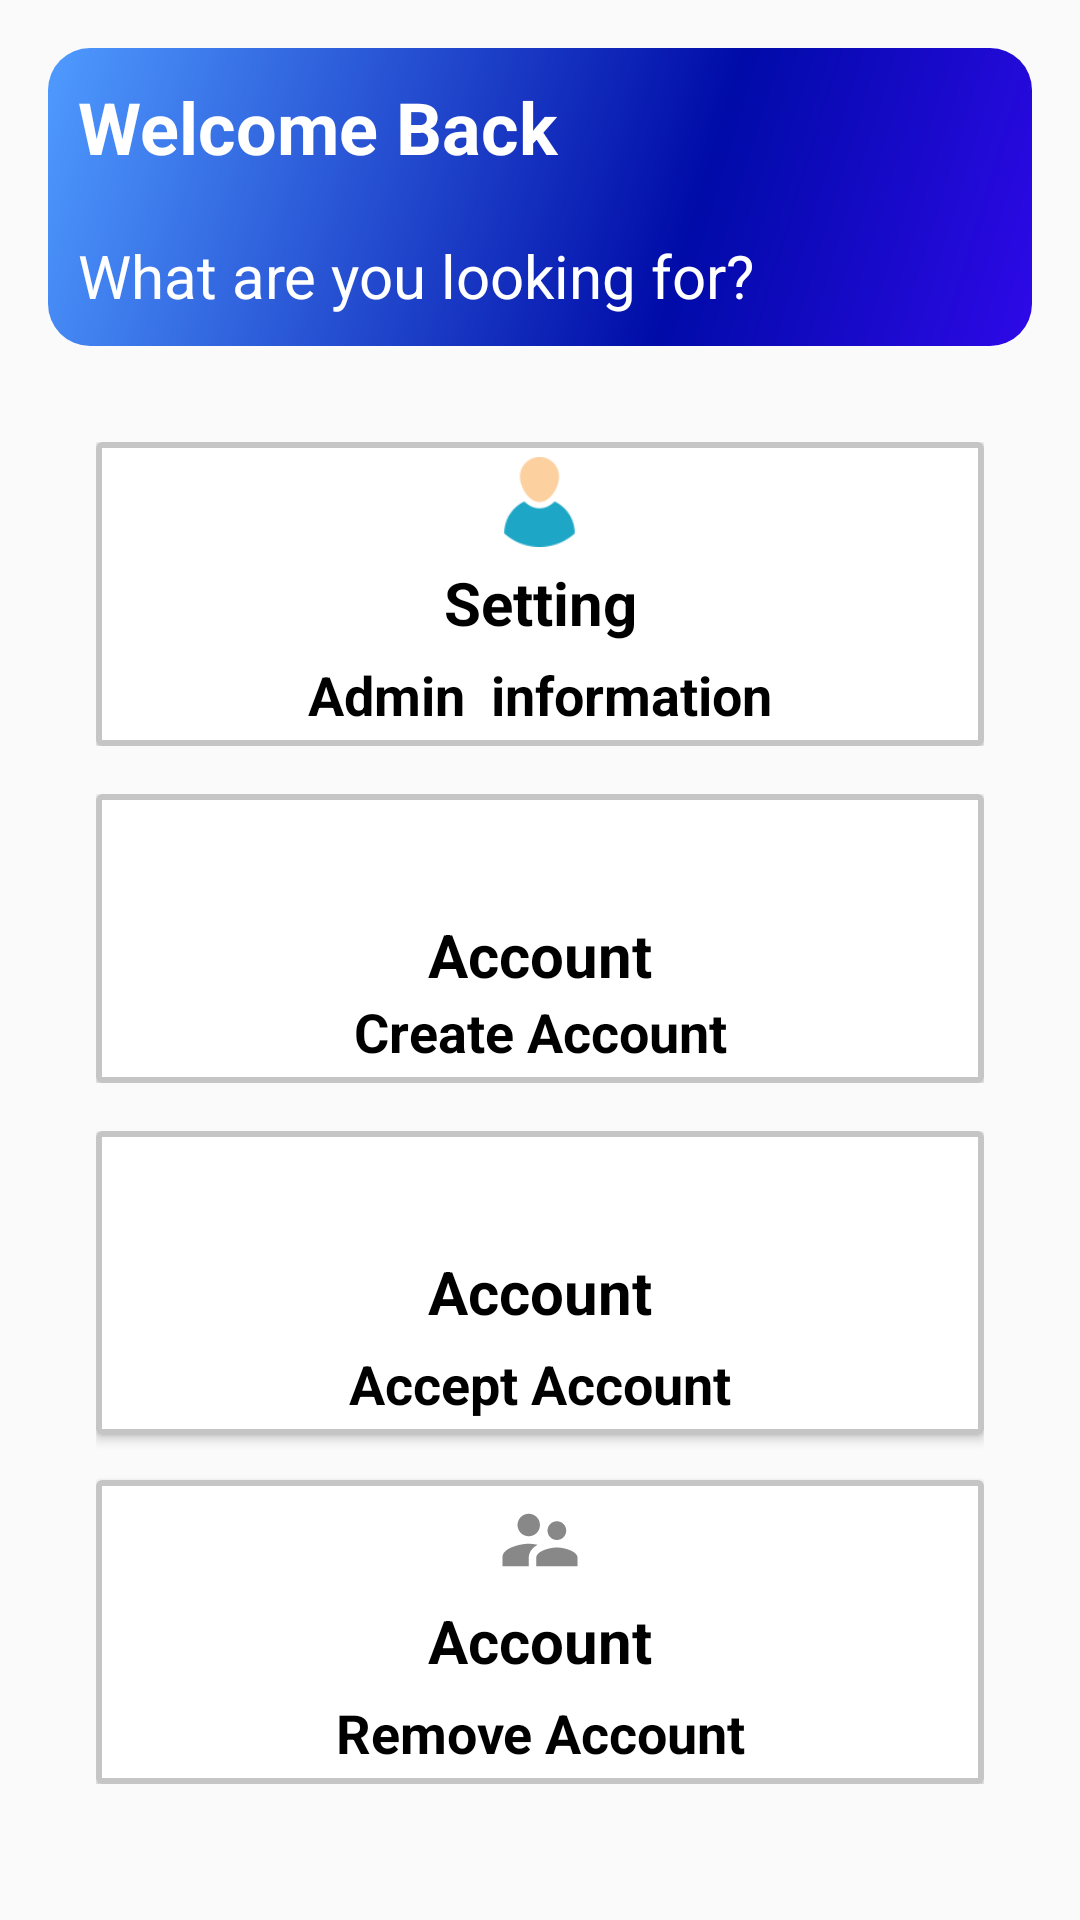

Named icons in this screenshot (1080 x 1920) and their bounding boxes, (x1, y1, x2, y2):
user: (504, 457, 575, 547)
